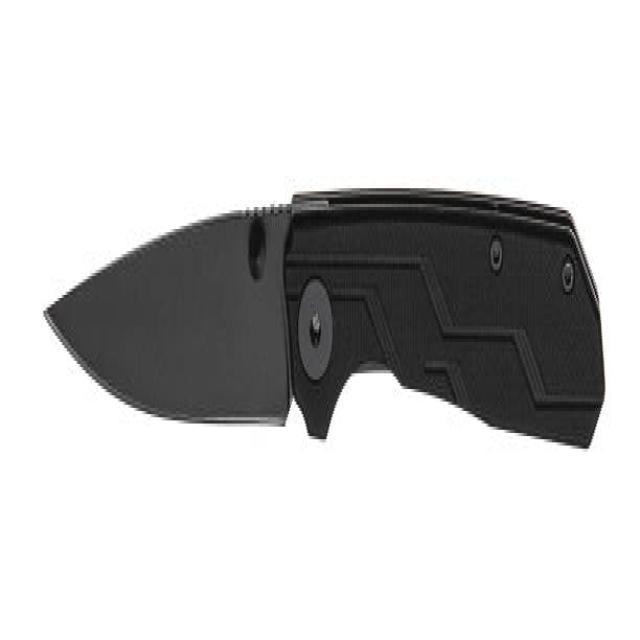knife: (35, 158, 613, 506)
